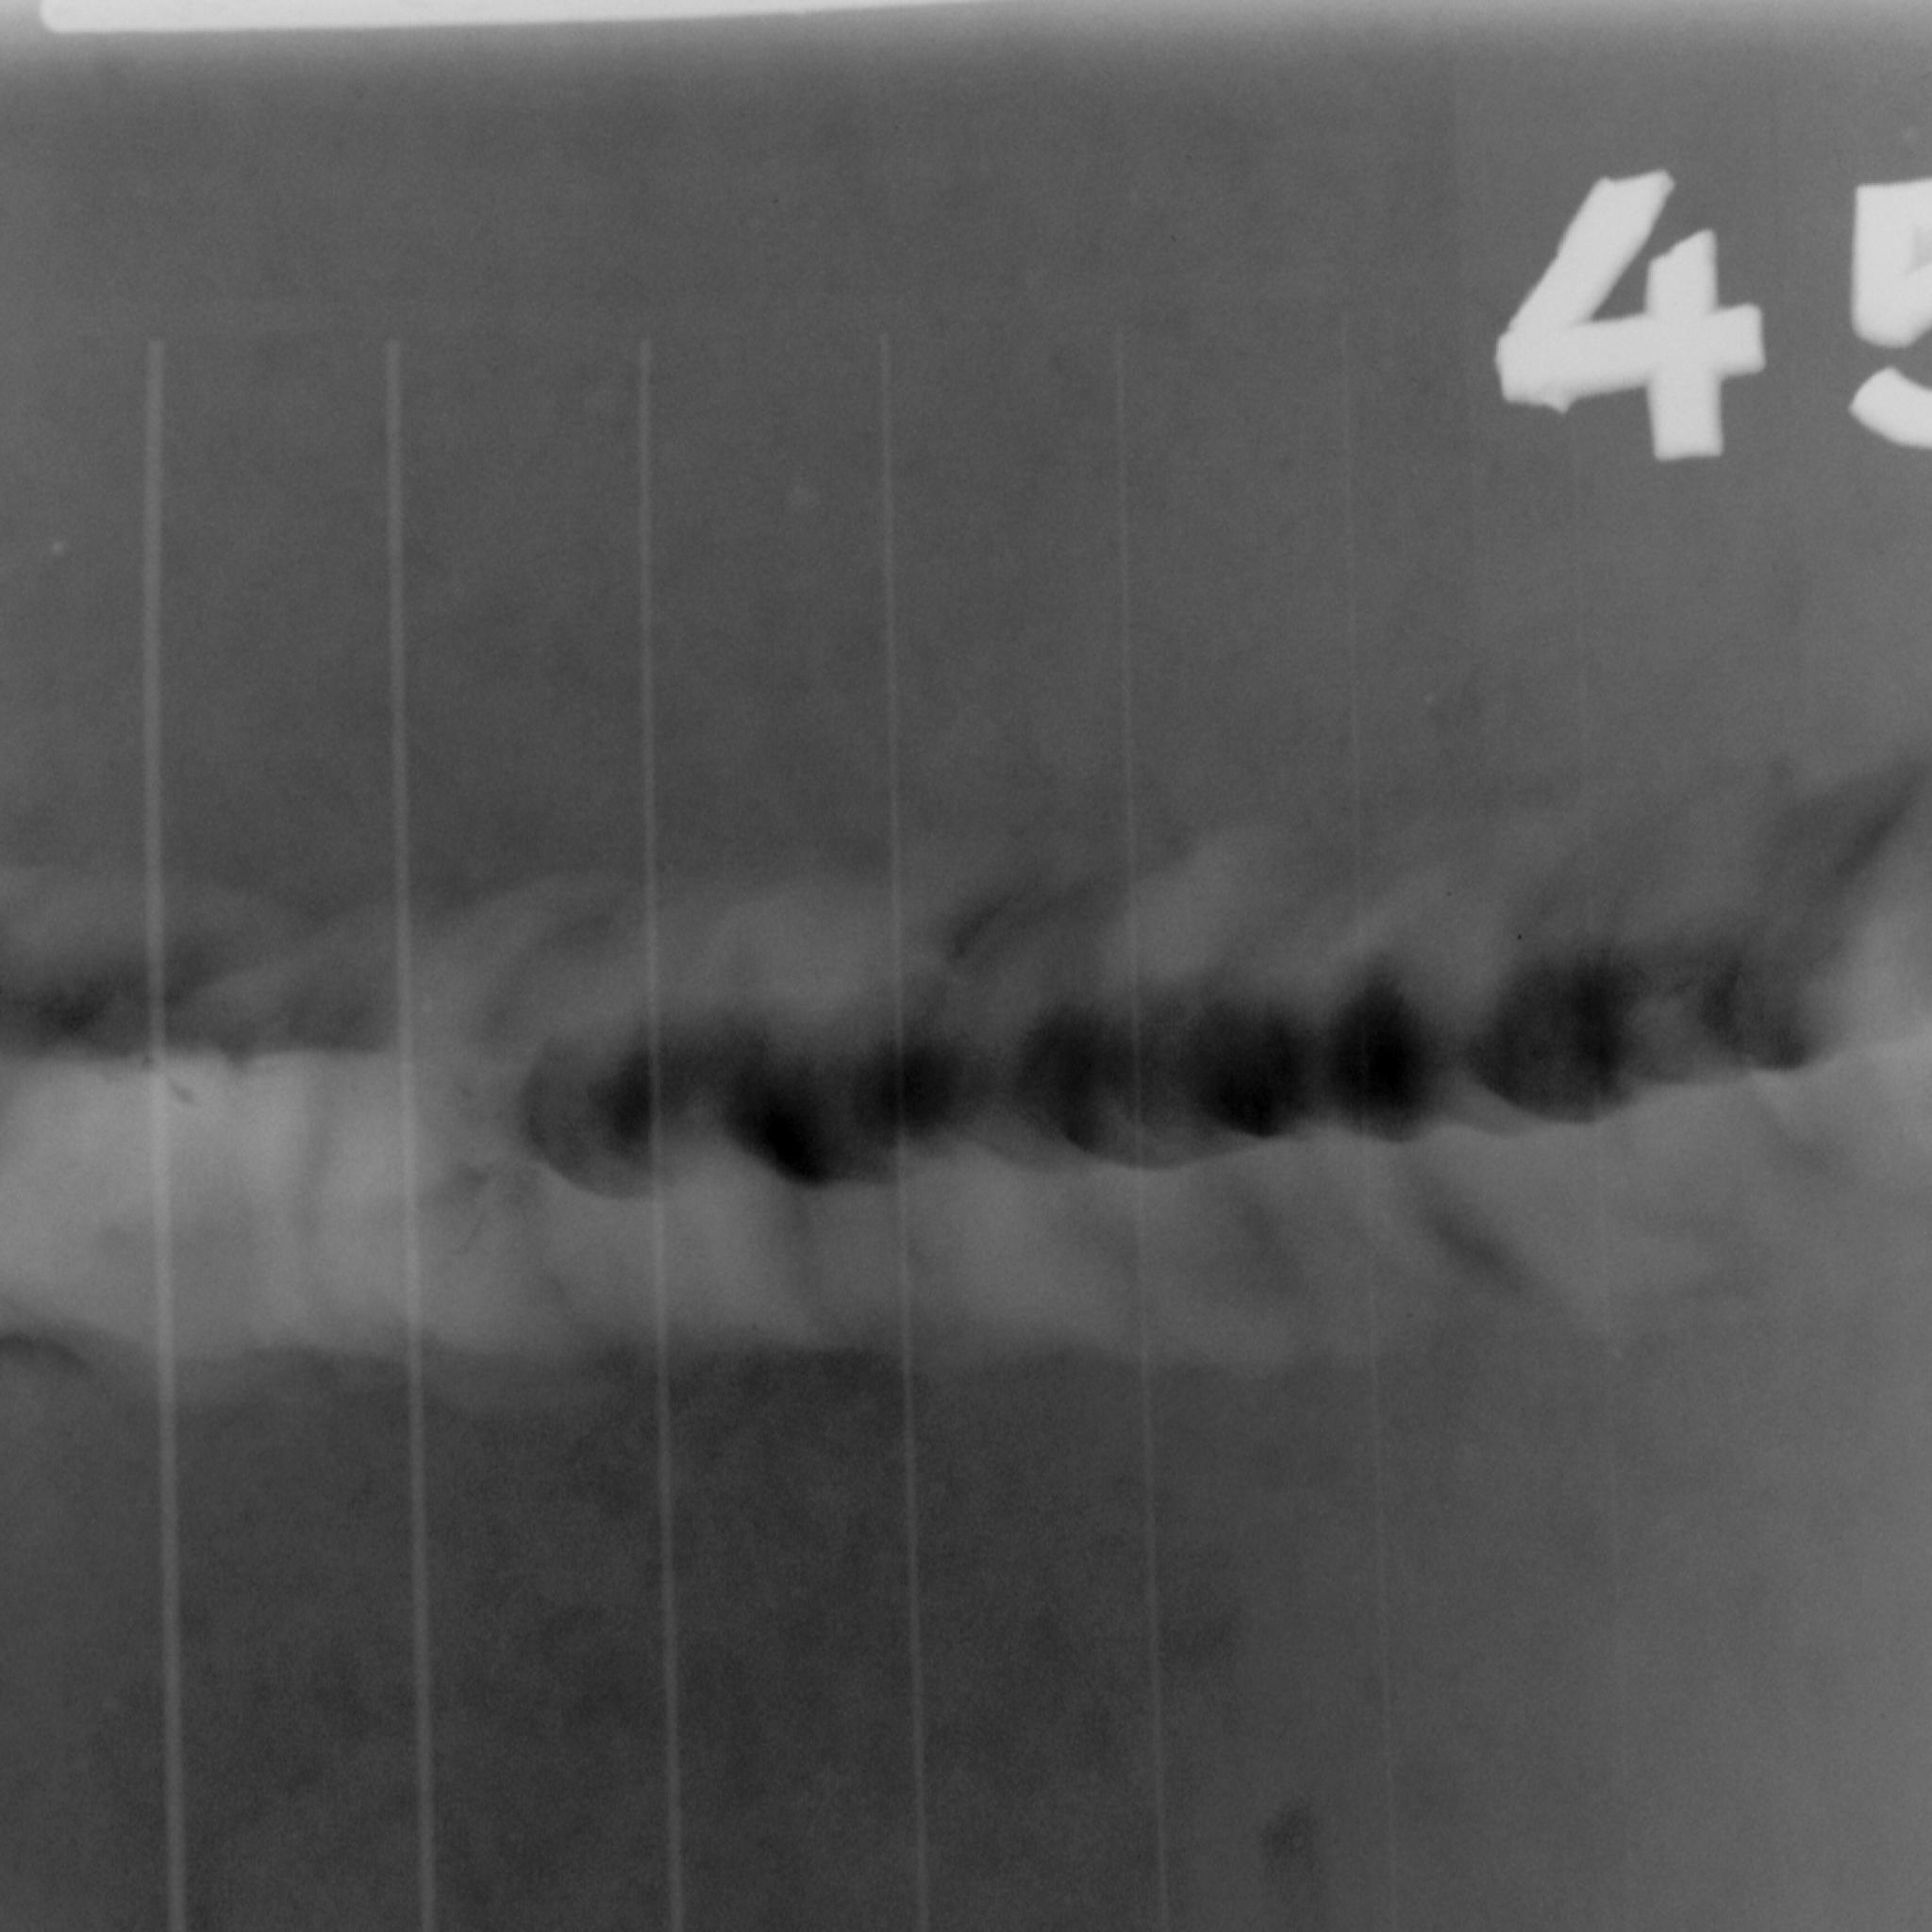FF: (0, 791, 1932, 1419)
